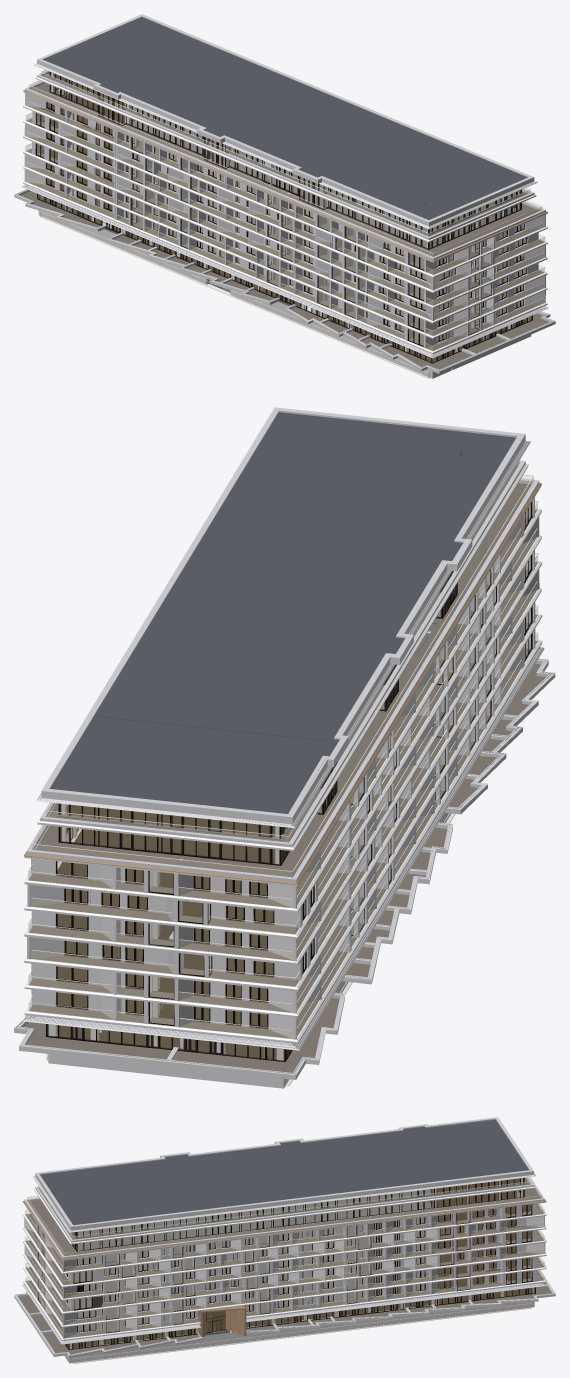
Rendered from prime_resd1_Import3DFiles1.glb.
3 views of the same model, one above another, from view 1: azimuth 30°, elevation 25°; view 2: azimuth 150°, elevation 25°; view 3: azimuth 270°, elevation 25° (orthographic). The views are drawn at different scales.
Parts seen in each view (by area): view 1: mesh_material_from_multipatch_10, mesh_material_from_multipatch_19, mesh_material_from_multipatch_5, mesh_material_from_multipatch_3, mesh_material_from_multipatch_14, mesh_material_from_multipatch_16, mesh_material_from_multipatch_22, mesh_material_from_multipatch_2, mesh_material_from_multipatch_18, mesh_material_from_multipatch_17, mesh_material_from_multipatch_1; view 2: mesh_material_from_multipatch_19, mesh_material_from_multipatch_10, mesh_material_from_multipatch_5, mesh_material_from_multipatch_3, mesh_material_from_multipatch_14, mesh_material_from_multipatch_2, mesh_material_from_multipatch_16, mesh_material_from_multipatch_18, mesh_material_from_multipatch_22; view 3: mesh_material_from_multipatch_10, mesh_material_from_multipatch_5, mesh_material_from_multipatch_19, mesh_material_from_multipatch_3, mesh_material_from_multipatch_14, mesh_material_from_multipatch_22, mesh_material_from_multipatch_16, mesh_material_from_multipatch_2, mesh_material_from_multipatch_18, mesh_material_from_multipatch_11, mesh_material_from_multipatch_17, mesh_material_from_multipatch_1.
Part boxes in pixels (x1,y1,x2,y2): mesh_material_from_multipatch_10: (14,14,555,378); mesh_material_from_multipatch_19: (44,17,527,219); mesh_material_from_multipatch_5: (25,70,544,377); mesh_material_from_multipatch_3: (21,73,548,369); mesh_material_from_multipatch_14: (22,70,547,378); mesh_material_from_multipatch_16: (36,72,532,363); mesh_material_from_multipatch_22: (47,76,526,360); mesh_material_from_multipatch_2: (40,74,525,361); mesh_material_from_multipatch_18: (23,90,547,261); mesh_material_from_multipatch_17: (56,88,517,245); mesh_material_from_multipatch_1: (50,199,522,358); mesh_material_from_multipatch_19: (50,412,515,813); mesh_material_from_multipatch_10: (14,407,555,1088); mesh_material_from_multipatch_5: (28,460,538,1084); mesh_material_from_multipatch_3: (24,465,545,1072); mesh_material_from_multipatch_14: (24,464,542,1085); mesh_material_from_multipatch_2: (56,805,332,1059); mesh_material_from_multipatch_16: (45,501,532,1061); mesh_material_from_multipatch_18: (24,483,541,884); mesh_material_from_multipatch_22: (56,623,435,1053); mesh_material_from_multipatch_10: (14,1117,555,1363); mesh_material_from_multipatch_5: (25,1177,544,1362); mesh_material_from_multipatch_19: (40,1119,528,1225); mesh_material_from_multipatch_3: (18,1177,551,1354); mesh_material_from_multipatch_14: (23,1177,546,1363); mesh_material_from_multipatch_22: (67,1183,530,1344); mesh_material_from_multipatch_16: (38,1178,535,1349); mesh_material_from_multipatch_2: (72,1178,531,1348); mesh_material_from_multipatch_18: (23,1199,546,1259); mesh_material_from_multipatch_11: (198,1305,246,1337); mesh_material_from_multipatch_17: (73,1180,507,1248); mesh_material_from_multipatch_1: (79,1288,531,1348).
Bounding box in the file's own units: 72.89 × 39.14 × 138.
